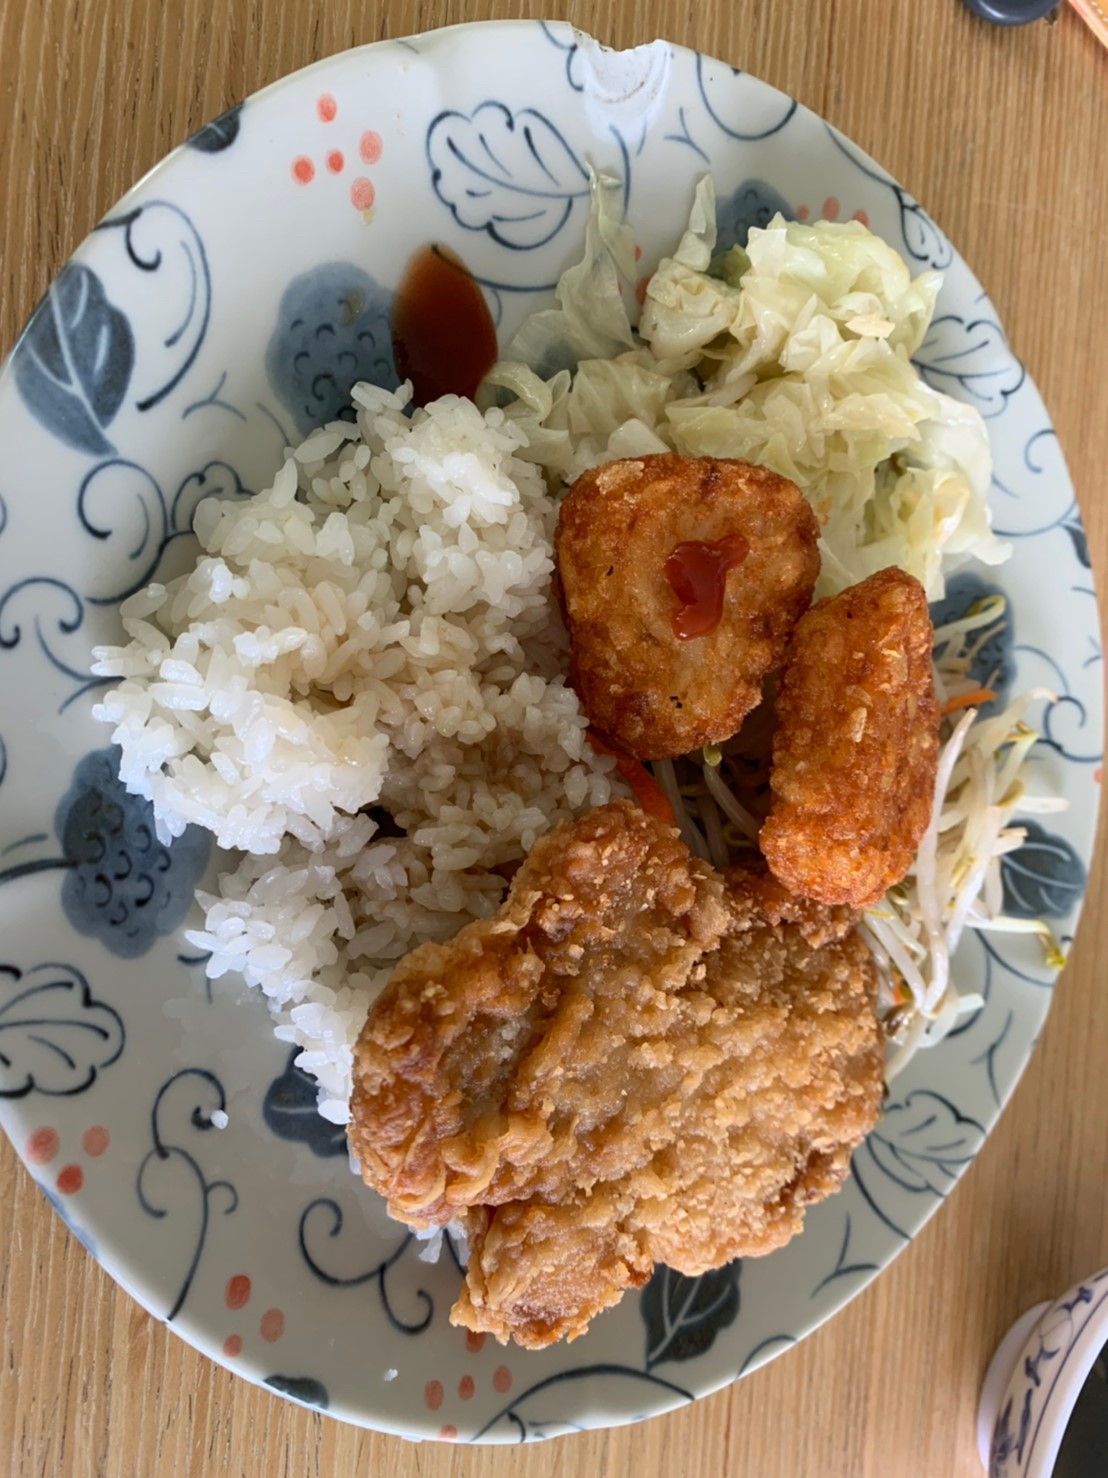chinese_cabbage: (554, 246, 951, 540)
fried_chicken: (329, 833, 887, 1326)
mung_bean_sprouts: (897, 670, 1042, 1026)
rice: (159, 422, 528, 992)
triangle_hash_brown: (567, 463, 918, 884)
